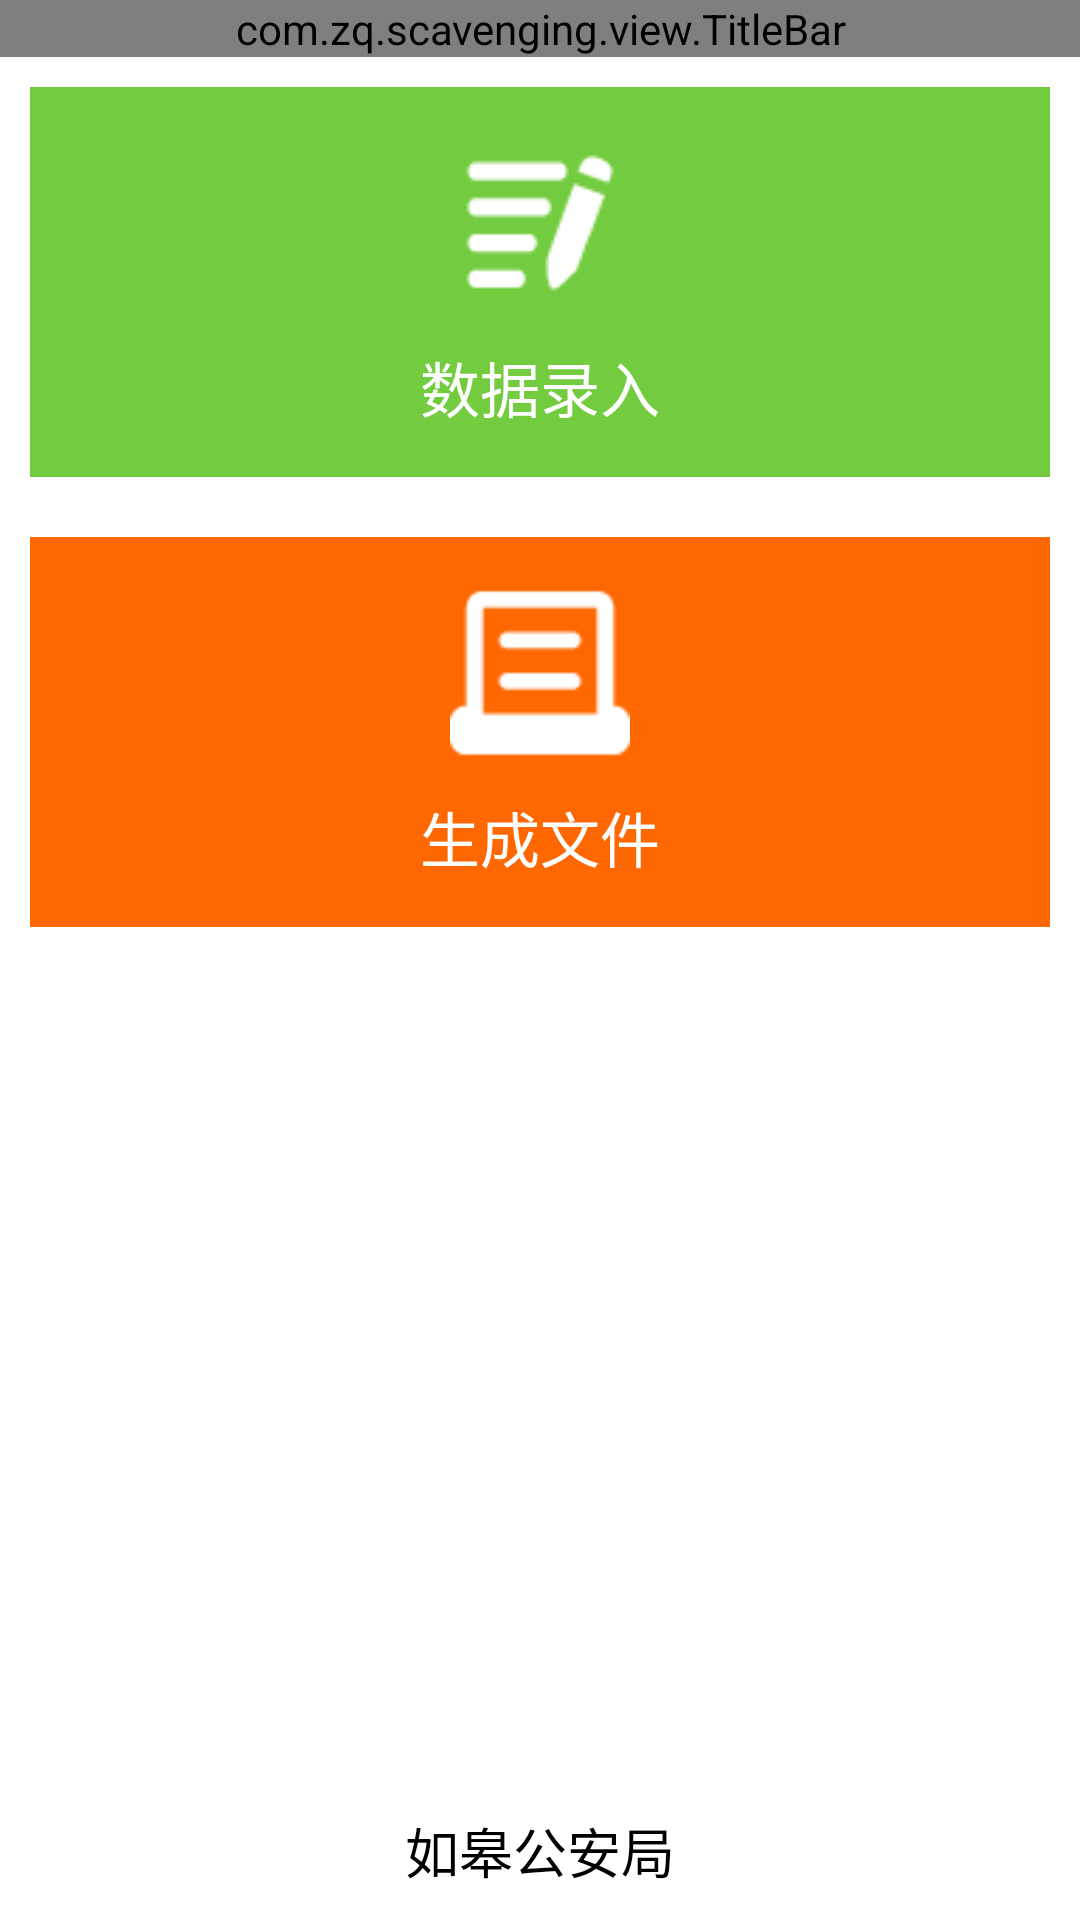

Locate icon controls on the screen. Image size 1080w x 1920h, boxes as (x1,y1,x2,y2).
entry: (466,155,614,291)
